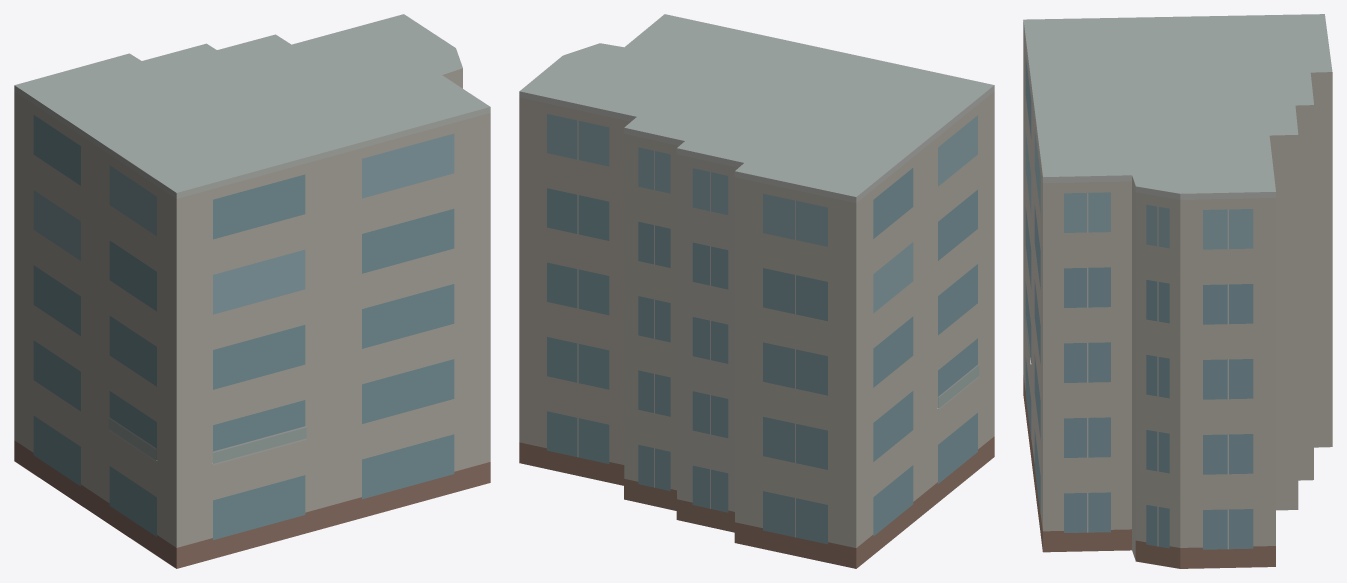
File: survey-upis-32610748.glb
3 renders of one model, left to right at view 1: azimuth 30°, elevation 25°; view 2: azimuth 150°, elevation 25°; view 3: azimuth 270°, elevation 25°, orthographic.
Parts seen in each view (by area): view 1: survey-upis-32610748.tmp; view 2: survey-upis-32610748.tmp; view 3: survey-upis-32610748.tmp.
Boxes of the visible parts, x1,y1,x2,y2 form: survey-upis-32610748.tmp: [14, 14, 490, 568]; survey-upis-32610748.tmp: [519, 14, 994, 568]; survey-upis-32610748.tmp: [1023, 14, 1332, 568].
Bounding box in the file's own units: 15.69 × 15.25 × 11.4.
